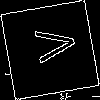V: (25, 25, 78, 65)
